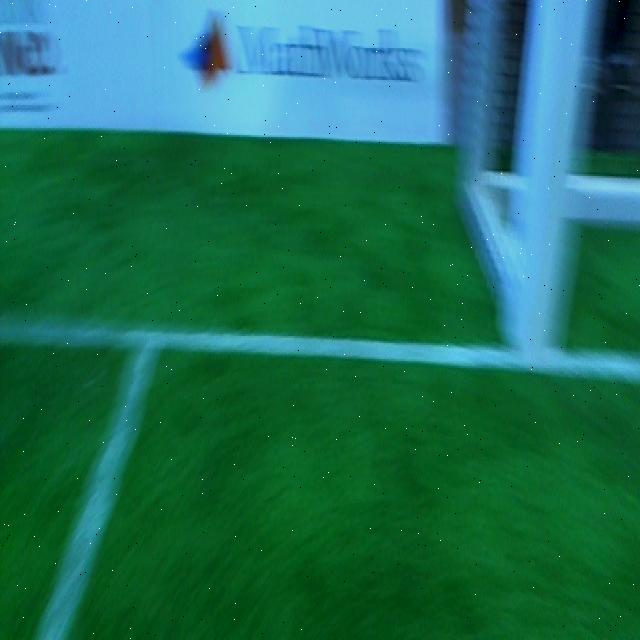goalpost: (502, 2, 601, 366)
